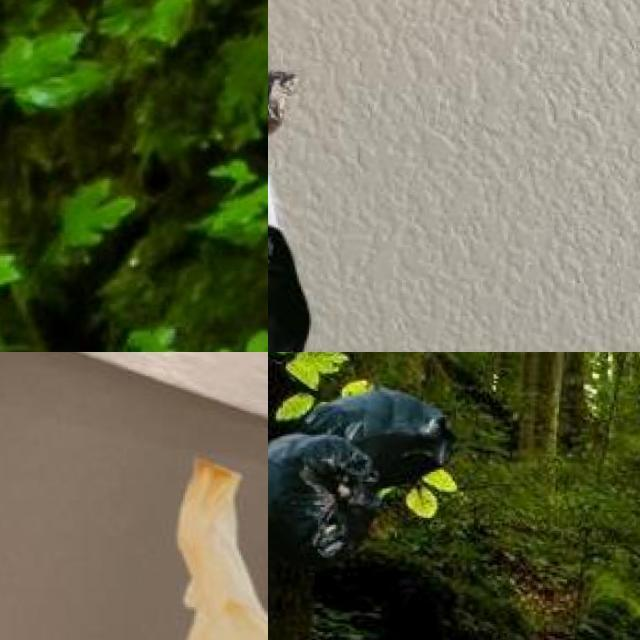waste: (74, 456, 268, 640), (301, 386, 456, 472), (268, 429, 370, 552), (268, 218, 310, 352)
